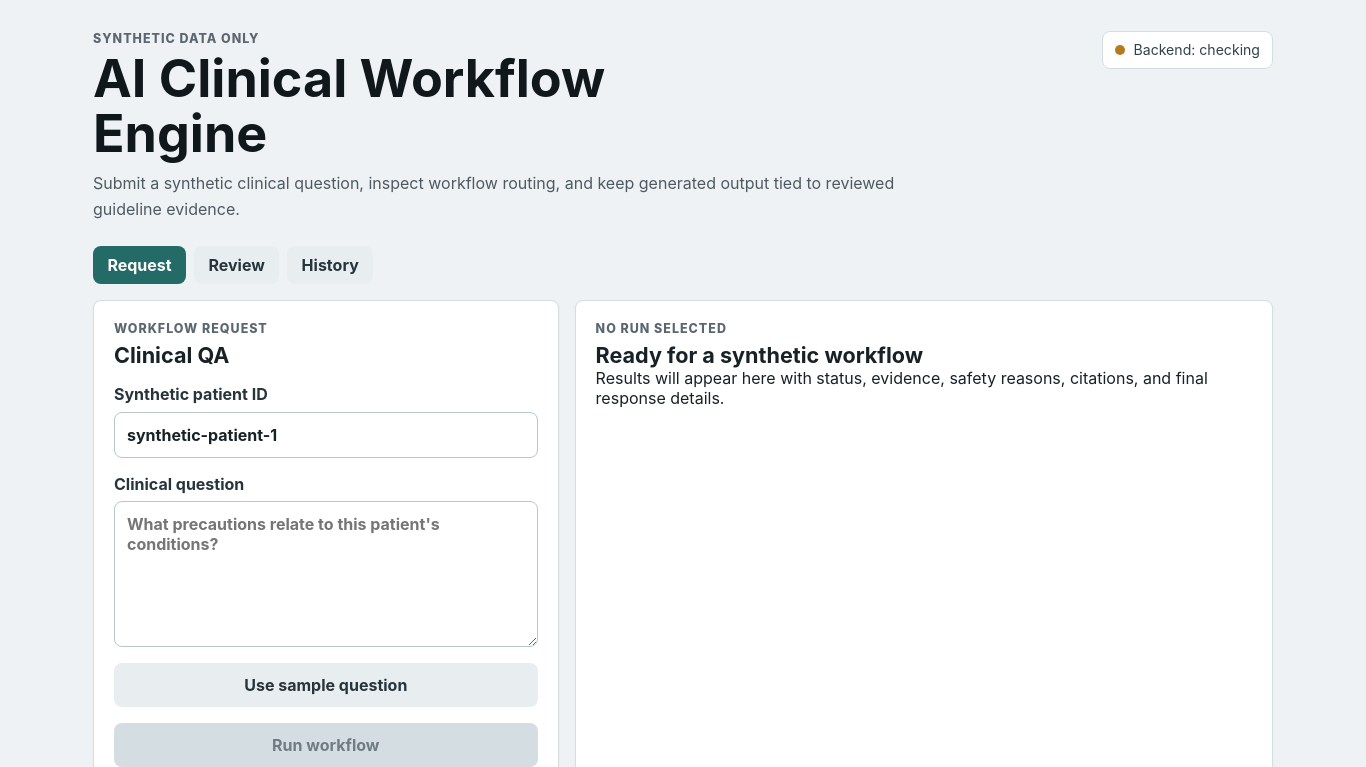
Test: App › renders pending-review draft and safety reasons
The width and height of the screenshot is (1366, 767).
Click the button "Use sample question": [326, 685] box 114,663 -> 538,707
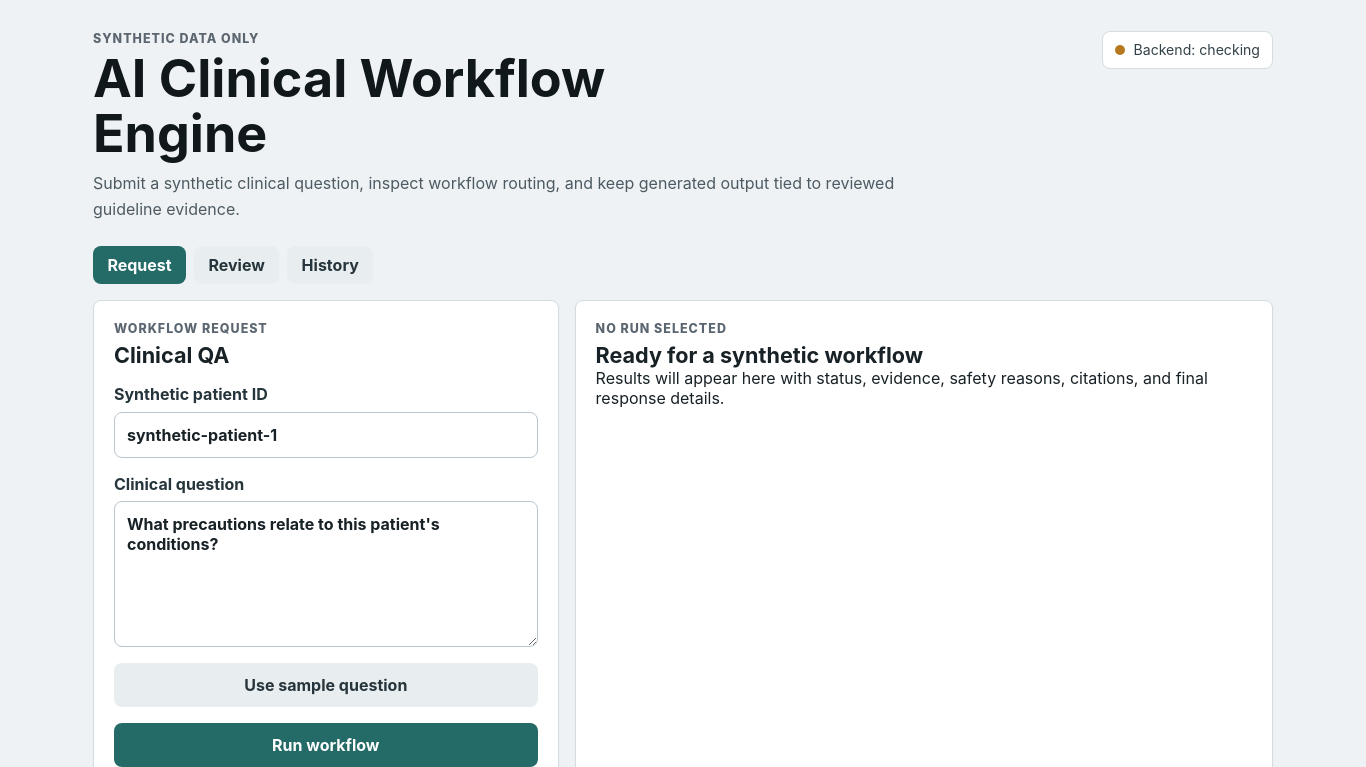
Click the button "Run workflow": [326, 745] box 114,723 -> 538,766
(page scrolled)
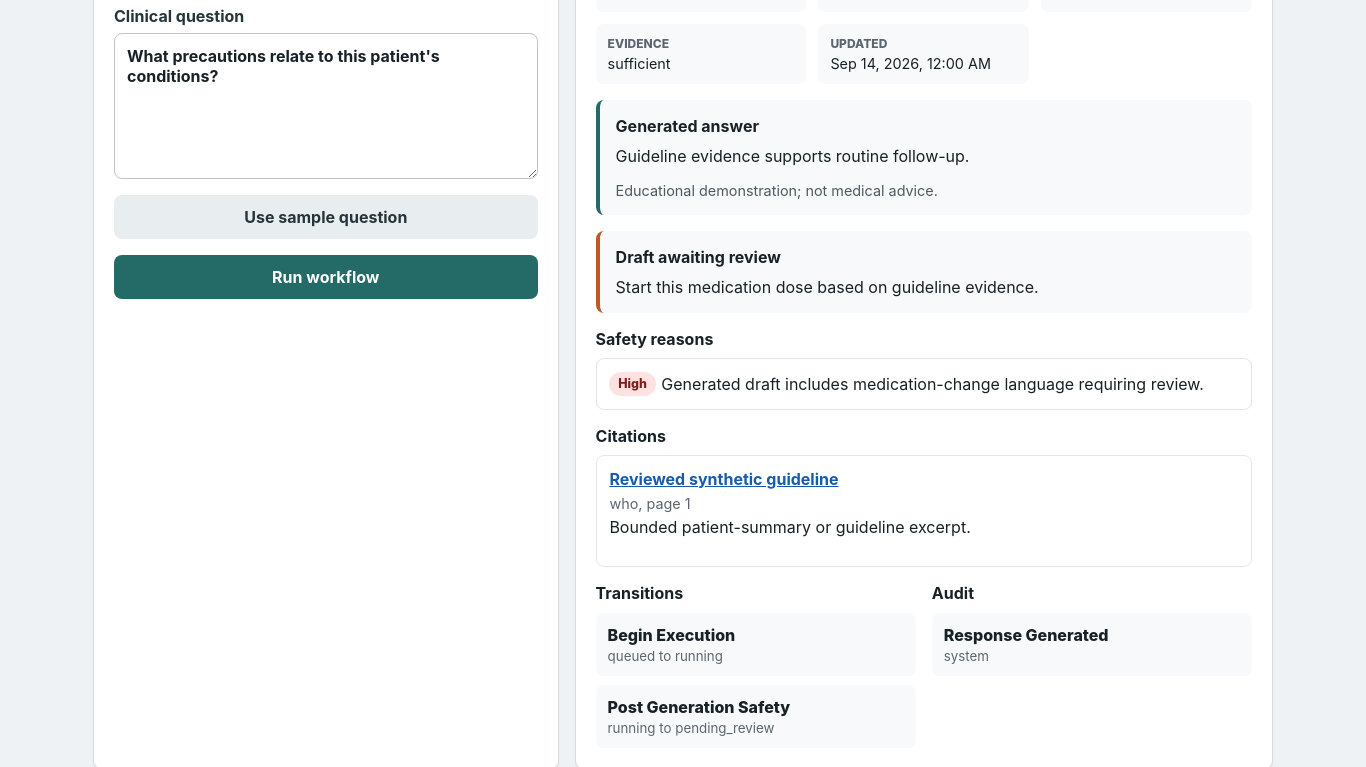
Result: the heading "Draft awaiting review" is shown at 616,247 -> 781,267
Result: the text "Generated draft includes medication-change language requiring review." is shown at 661,374 -> 1238,394
